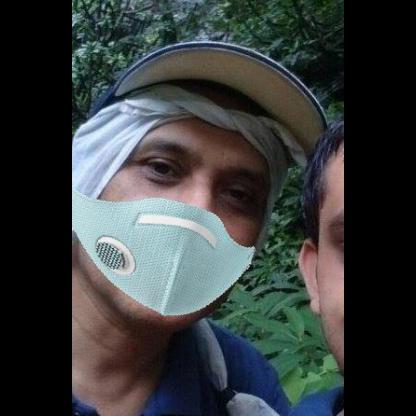FFP Mask: (75, 28, 305, 320)
